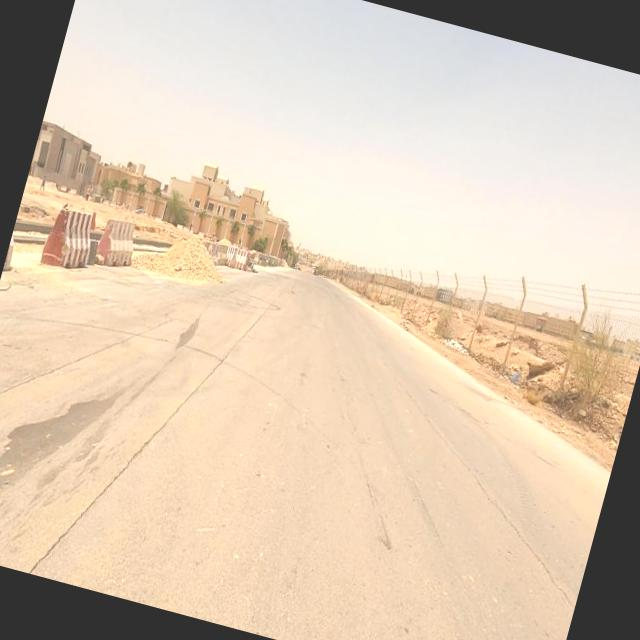debris: (412, 304, 494, 392), (472, 333, 549, 411)
